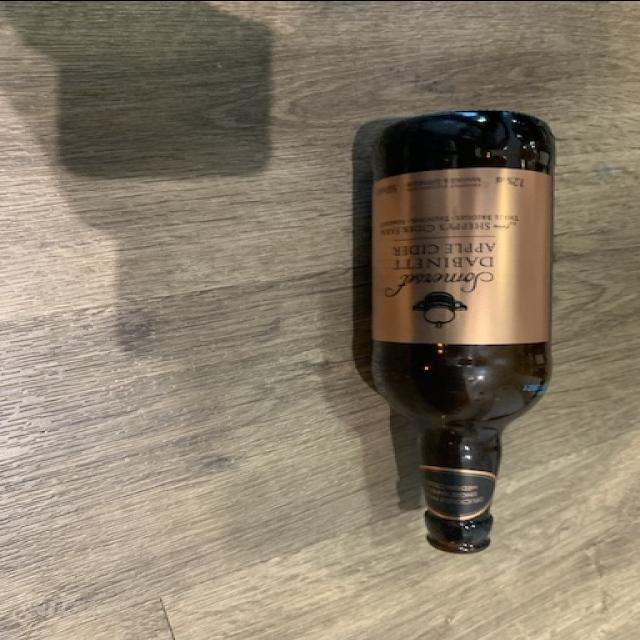Glass Bottle: (355, 101, 557, 555)
